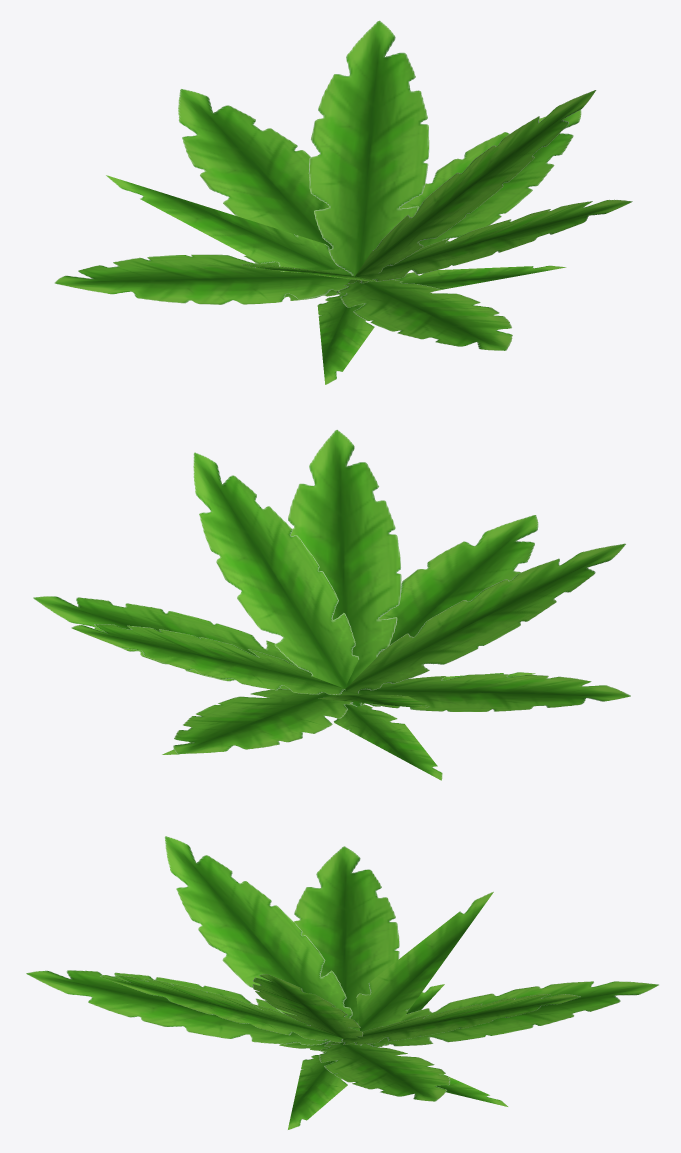
The model's file is Plant1_LOD1.fbx.
The picture shows the model from 3 angles, top to bottom: view 1: azimuth 30°, elevation 25°; view 2: azimuth 150°, elevation 25°; view 3: azimuth 270°, elevation 25°; orthographic projection. The views are drawn at different scales.
Visible parts, largest first — view 1: Plane.014; view 2: Plane.014; view 3: Plane.014.
Boxes of the visible parts, left/top/right/bottom form: Plane.014: left=54, top=20, right=632, bottom=384; Plane.014: left=33, top=429, right=630, bottom=780; Plane.014: left=26, top=836, right=658, bottom=1129.
Bounding box in the file's own units: 7.65 × 7.88 × 2.43.
